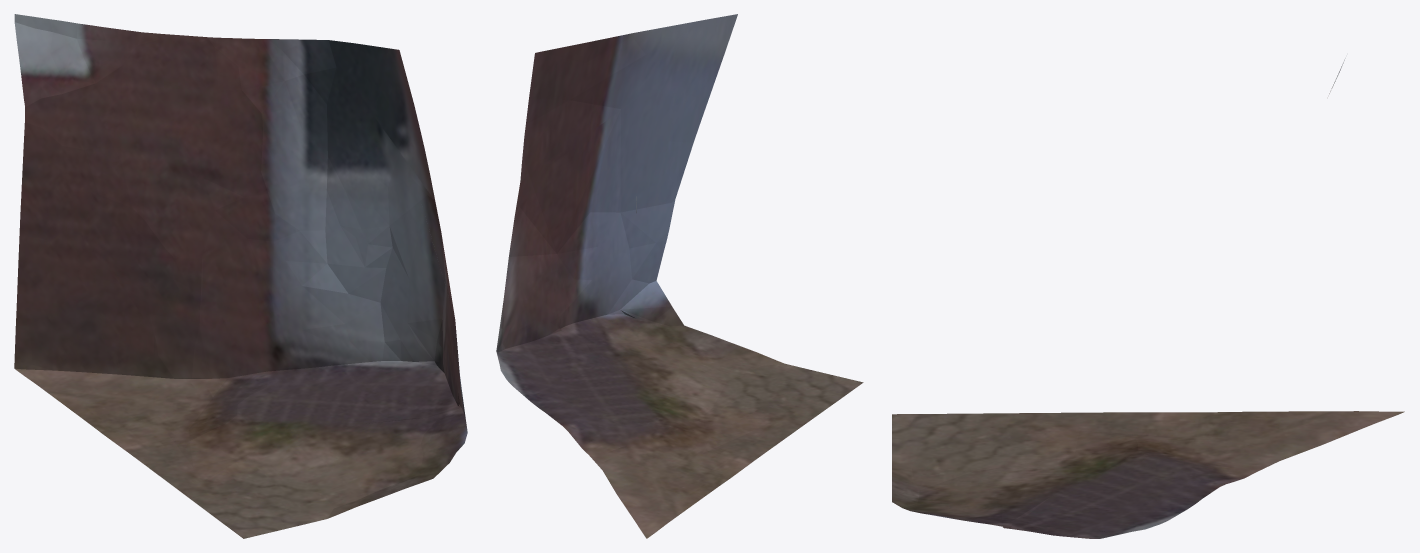
3 renders of one model, left to right at view 1: azimuth 30°, elevation 25°; view 2: azimuth 150°, elevation 25°; view 3: azimuth 270°, elevation 25°, orthographic. The views are drawn at different scales.
Size of the model in its own units: 1.48 by 1.74 by 2.02.
1 material, 1 textured.
